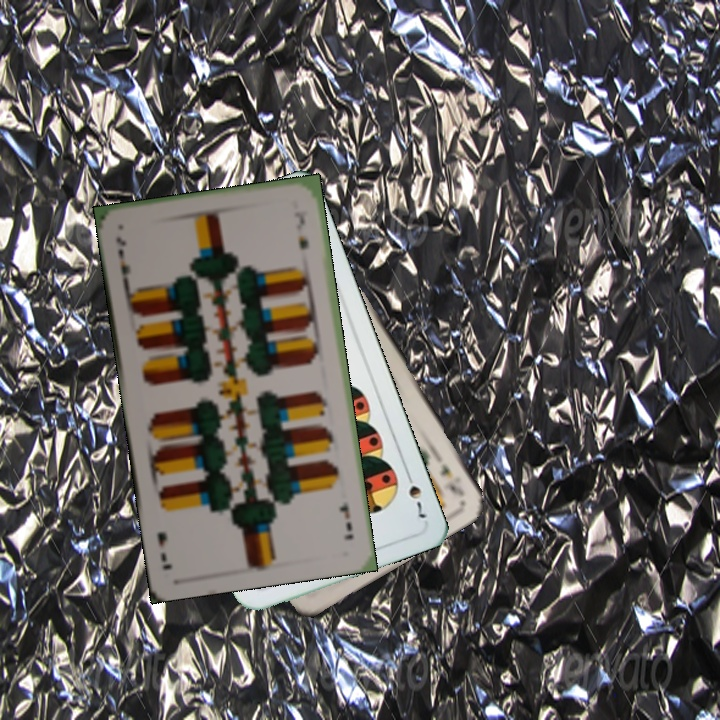E7: (112, 232, 134, 287), (335, 499, 356, 542)
EK: (436, 460, 467, 499)
S7: (401, 466, 429, 521)
